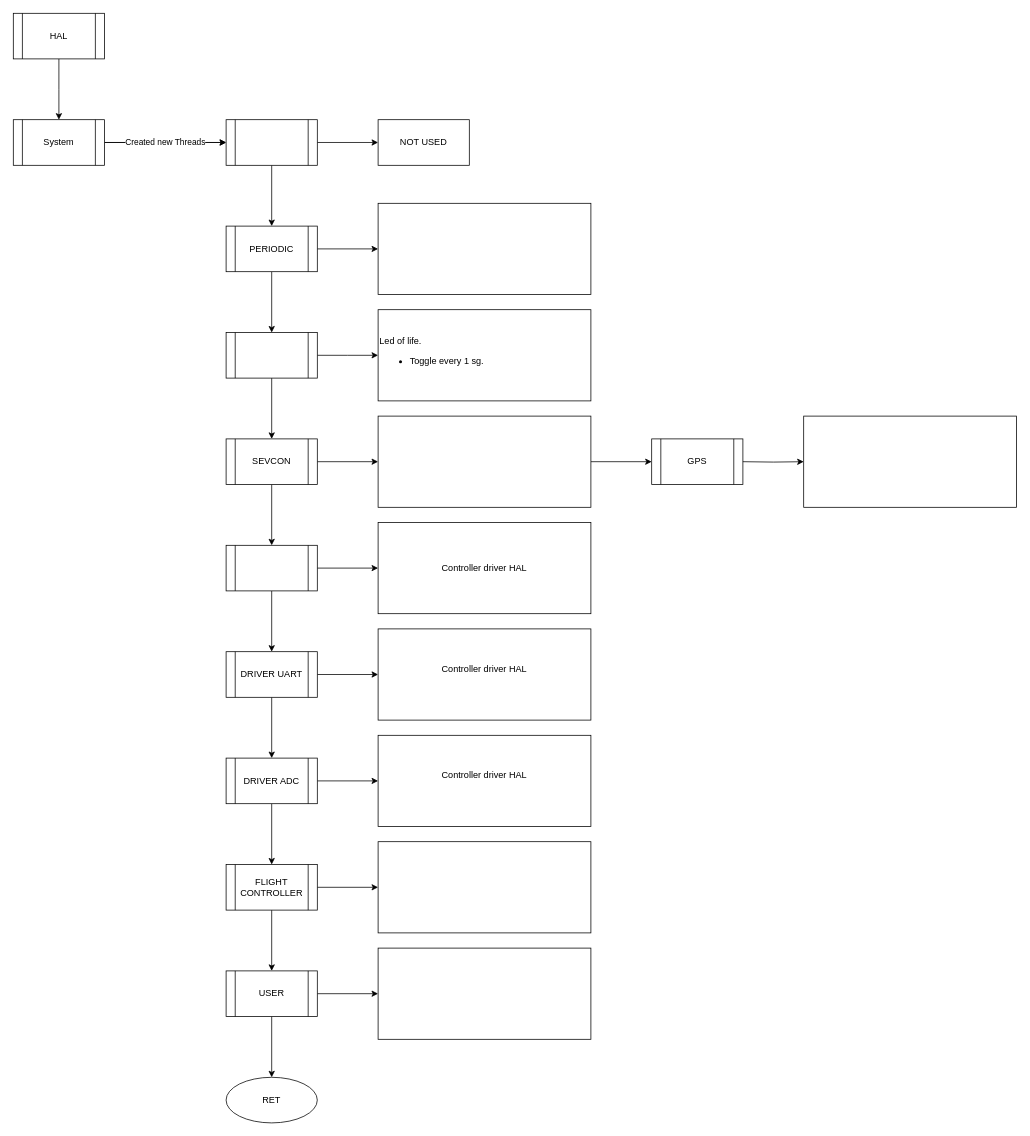
Image size: 1030x1136. Some labels were removed from this diagram. Each missing label, with the centre of its shape:
"Compare velocity GPS vs Drivers Sevcon CAN Bus: 1 Mbit\s CAnOpen" belongs at (x=484, y=461).
"Controller DAC of ref from Sevcon PWM to 10 KHz" belongs at (x=484, y=887).
"DRIVER CAN" belongs at (x=271, y=568).
"Edit some variables MiicroUSB to 115200 baudrate" belongs at (x=484, y=993).
"HEARTBEAT" belongs at (x=271, y=355).
"LOG" belongs at (x=271, y=142).
"Read velocity from GPS UART 1" belongs at (x=909, y=461).
"Register peridodic functions every: 100 ms 200 ms 500 Ms 1 sg" belongs at (x=484, y=248).
